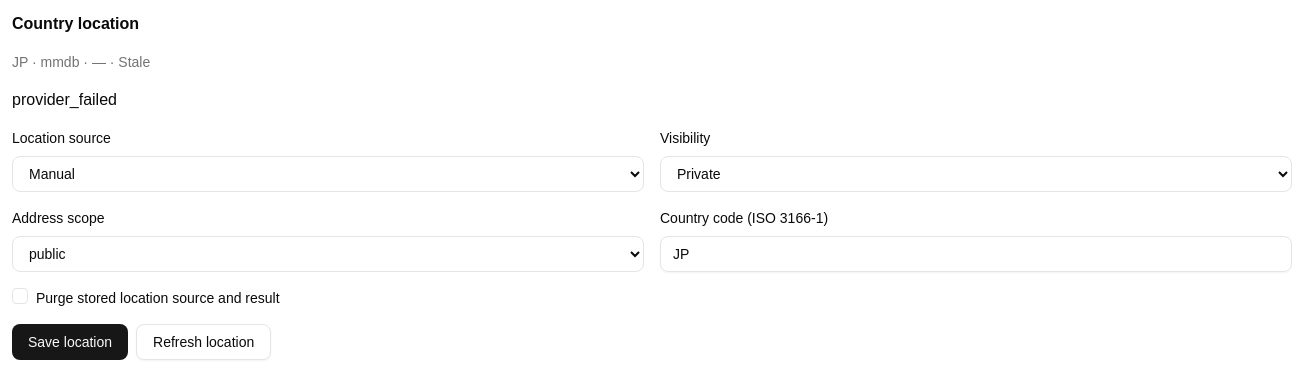
Test: node lifecycle and location editors › supports manual scope/country, purge, refresh, disabled state and errors
Replace the text in the field labelled "Country code (ISO 3166-1)" with "us" at (976, 254), box [660, 236, 1292, 272]
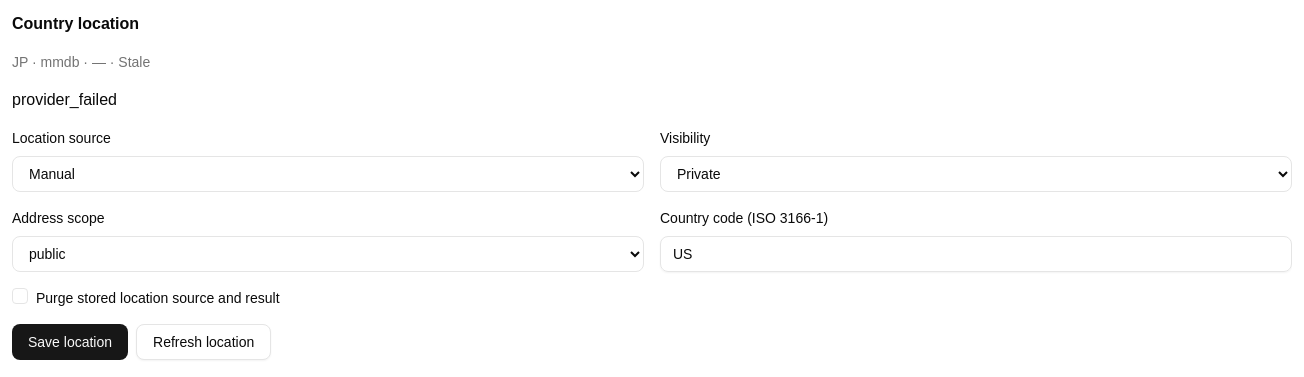
Click the checkbox named "Purge".
click(20, 296)  # box [12, 288, 28, 304]
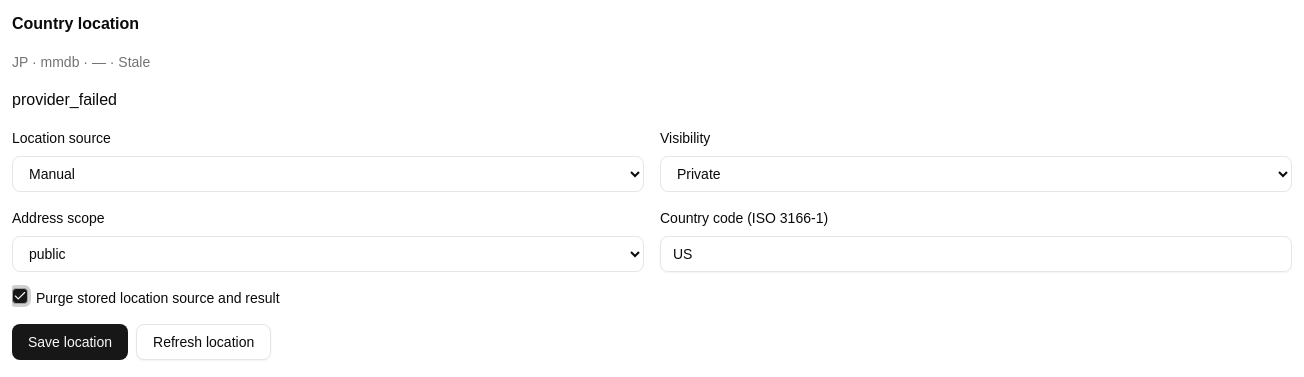
Select "private" in the dropdown labelled "Address scope" at (328, 254), box [12, 236, 644, 272]
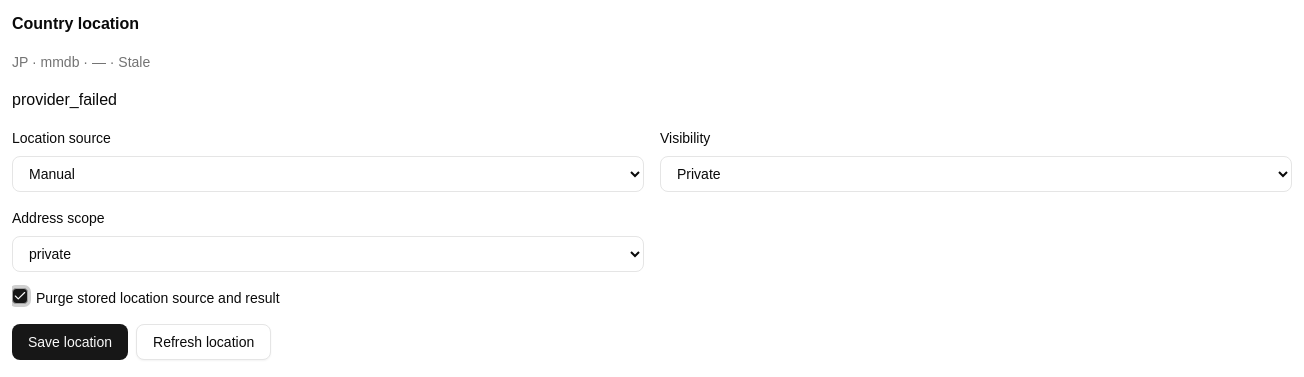
Result: the label labelled "Country code (ISO 3166-1)" is gone
Select "Disabled" in the dropdown labelled "Location source" at (328, 174), box [12, 156, 644, 192]
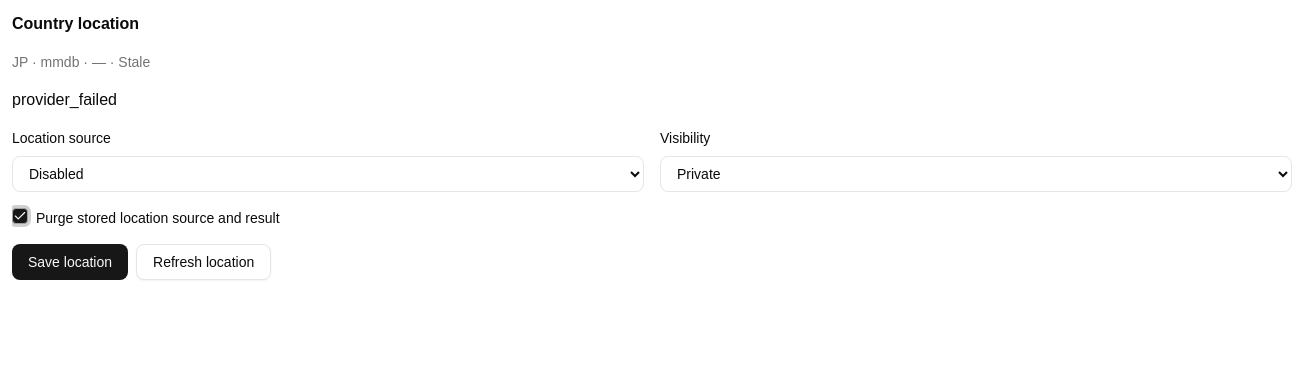
Click the button "Save location".
click(70, 262)  # box [12, 244, 128, 280]
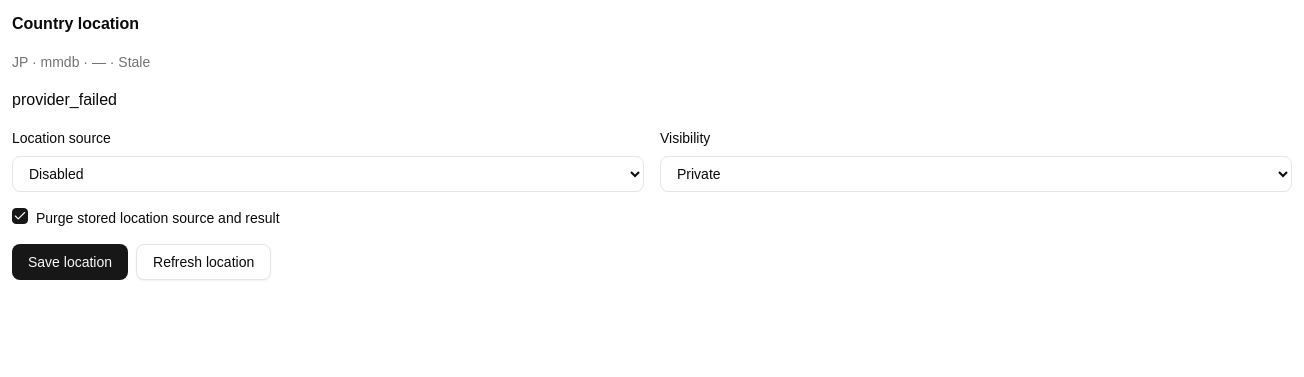
Click the button "Refresh location".
click(204, 262)  # box [136, 244, 271, 280]
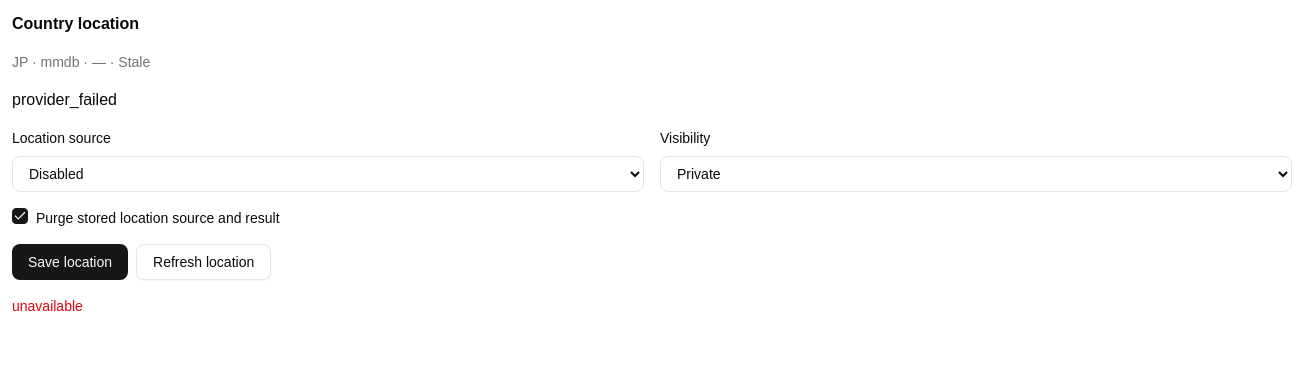
Result: the message "unavailable" is shown at [12, 298, 83, 314]
